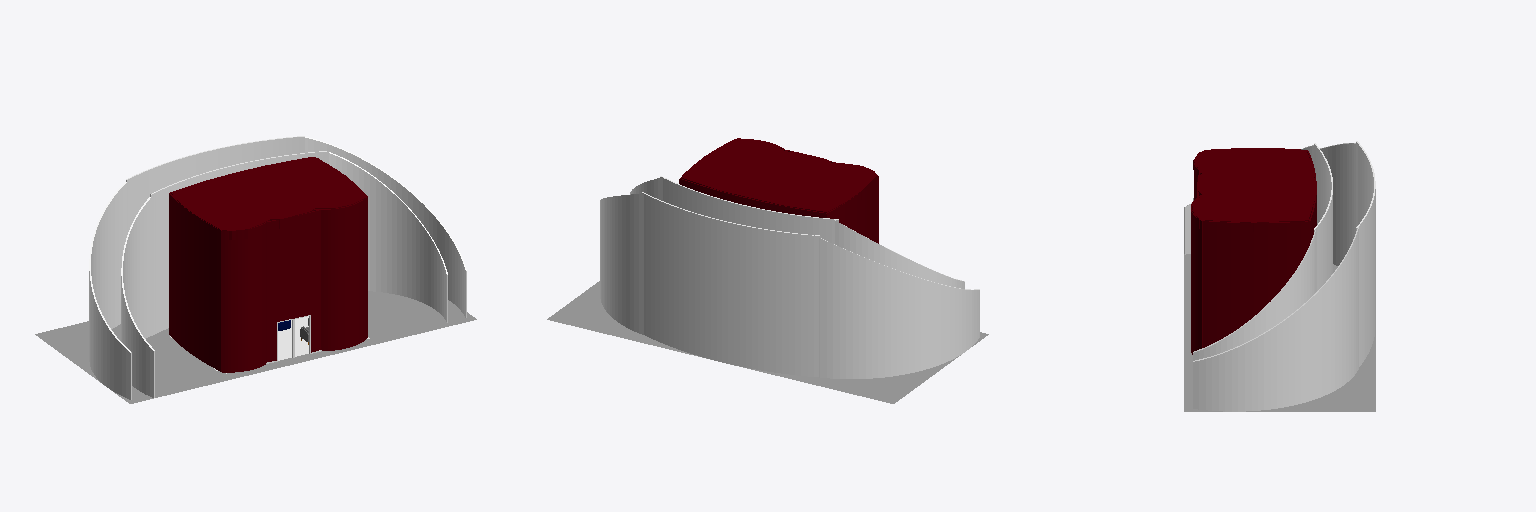
Rendered from UAT.obj.
The picture shows the model from 3 angles: view 1: azimuth 30°, elevation 25°; view 2: azimuth 150°, elevation 25°; view 3: azimuth 270°, elevation 25°; orthographic projection.
Parts seen in each view (by area): view 1: room_18_85, ground_1, wall_10_59, wall_4_24, wall_7_41, wall_5_30, wall_1_6, wall_12_72, wall_11_65, wall_8_48, wall_13_77, wall_9_53 (+3 smaller); view 2: wall_12_71, wall_11_66, room_18_85, wall_13_78, ground_1, wall_8_47, wall_9_54, wall_4_24, wall_3_18; view 3: wall_13_78, wall_2_12, room_18_85, ground_1, wall_10_60, wall_11_65, wall_12_71, wall_7_41, wall_8_47, wall_12_72, wall_8_48.
Boxes of the visible parts, <box> form: room_18_85: <box>171,157,366,239</box>; ground_1: <box>35,291,476,403</box>; wall_10_59: <box>329,153,447,322</box>; wall_4_24: <box>169,194,220,371</box>; wall_7_41: <box>314,197,367,350</box>; wall_5_30: <box>221,222,266,372</box>; wall_1_6: <box>267,210,320,361</box>; wall_12_72: <box>126,137,304,234</box>; wall_11_65: <box>91,178,131,399</box>; wall_8_48: <box>151,151,328,335</box>; wall_13_77: <box>305,138,465,317</box>; wall_9_53: <box>123,194,154,338</box>; wall_12_71: <box>642,193,820,376</box>; wall_11_66: <box>814,235,979,378</box>; room_18_85: <box>682,138,876,212</box>; wall_13_78: <box>600,194,643,334</box>; ground_1: <box>547,281,988,403</box>; wall_8_47: <box>660,177,838,243</box>; wall_9_54: <box>835,221,964,288</box>; wall_4_24: <box>827,177,876,242</box>; wall_3_18: <box>679,179,826,217</box>; wall_13_78: <box>1193,229,1358,411</box>; wall_2_12: <box>1203,221,1309,347</box>; room_18_85: <box>1192,148,1314,231</box>; ground_1: <box>1184,254,1375,411</box>; wall_10_60: <box>1193,228,1316,360</box>; wall_11_65: <box>1193,143,1357,265</box>; wall_12_71: <box>1357,189,1375,366</box>; wall_7_41: <box>1191,212,1202,354</box>; wall_8_47: <box>1314,195,1332,290</box>; wall_12_72: <box>1356,142,1373,230</box>; wall_8_48: <box>1314,144,1331,224</box>.
Size of the model in its own units: 1927 by 753 by 920.